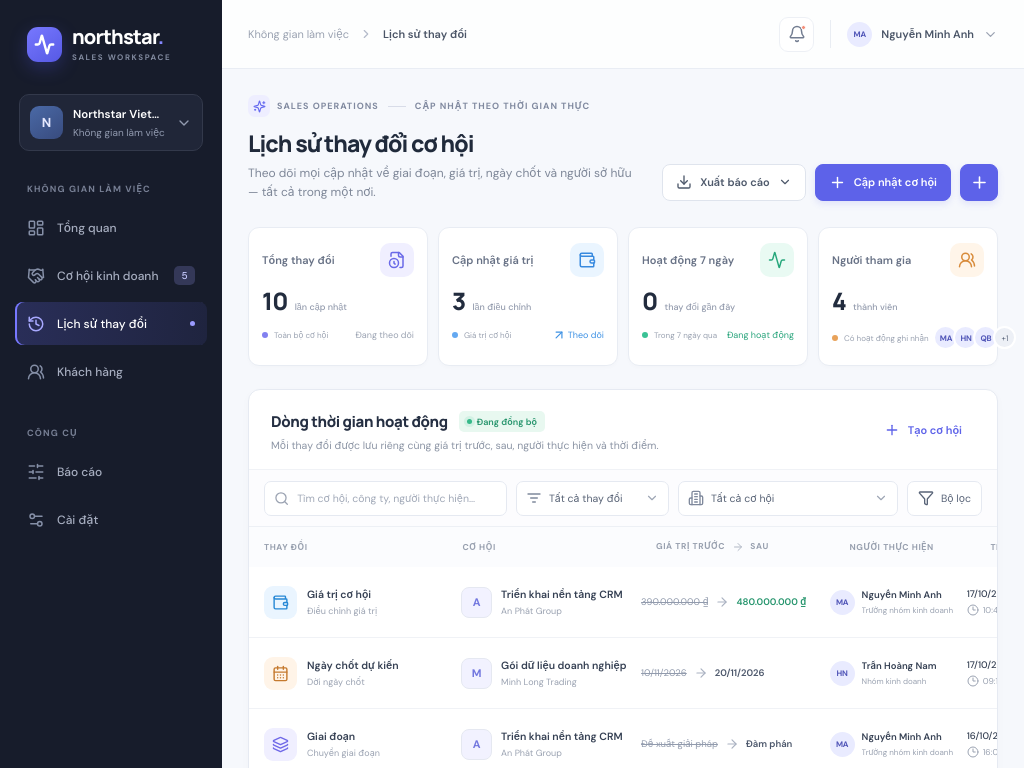
it: Opportunity history UI › records each changed field when saving an opportunity
The image size is (1024, 768).
Click the button "Cập nhật cơ hội" at (883, 182), box left=815, top=164, right=951, bottom=201
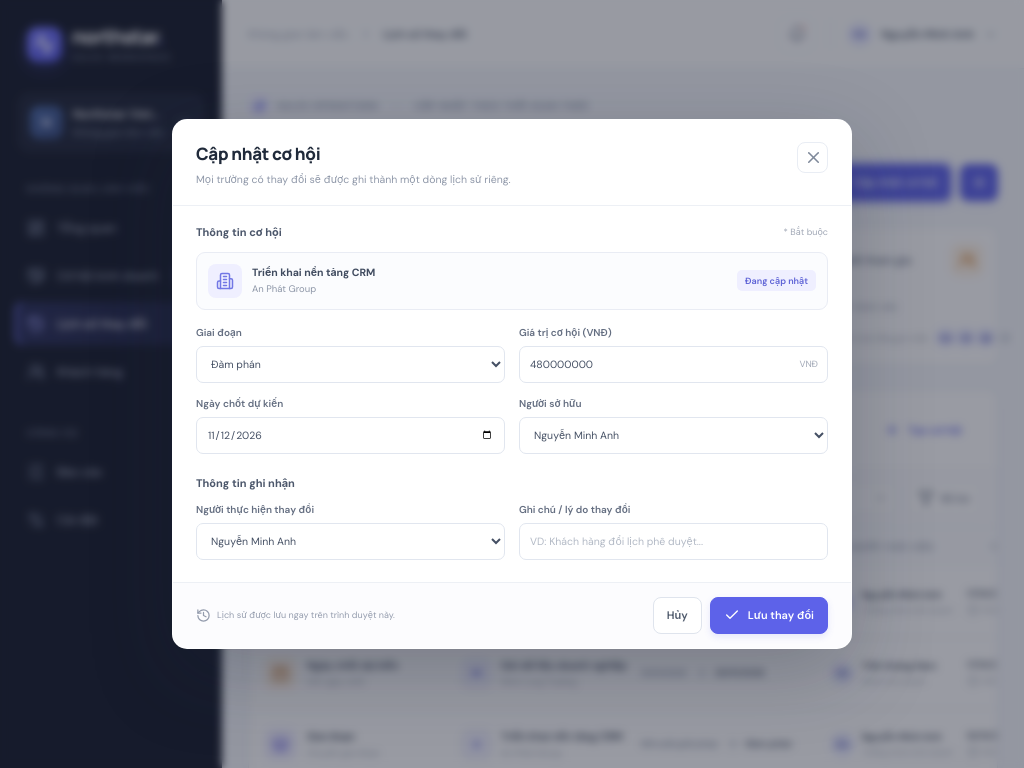
expect the dialog "Cập nhật cơ hội" is shown: met, box left=172, top=119, right=852, bottom=649
Select "Đã thắng" in the dropdown labelled "Giai đoạn" at (350, 364), box left=196, top=346, right=505, bottom=383
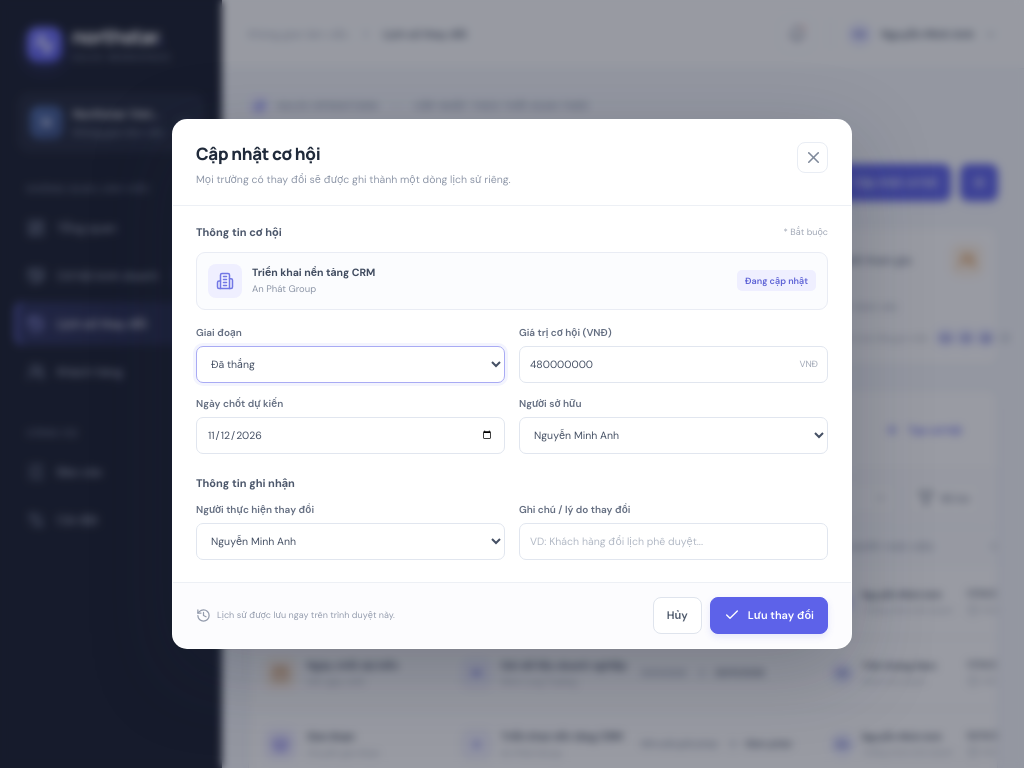
Replace the text in the number field labelled "Giá trị cơ hội (VNĐ)" with "500000000" at (674, 364), box left=519, top=346, right=828, bottom=383
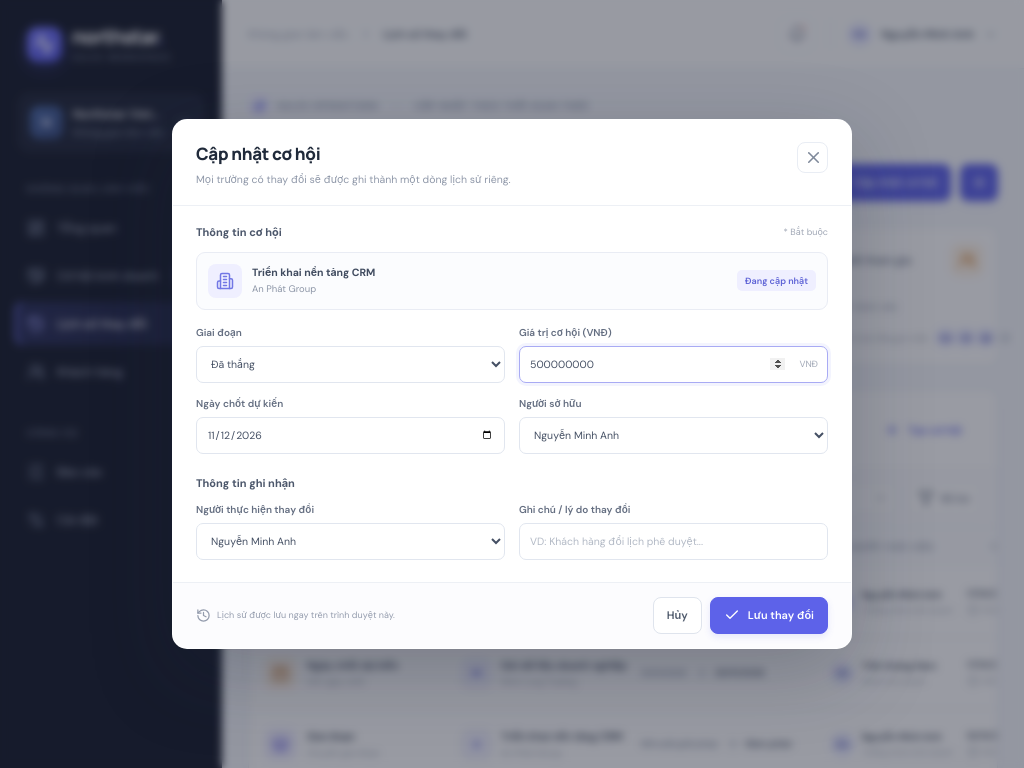
Select "Trần Hoàng Nam" in the dropdown labelled "Người sở hữu" at (674, 435), box left=519, top=417, right=828, bottom=454
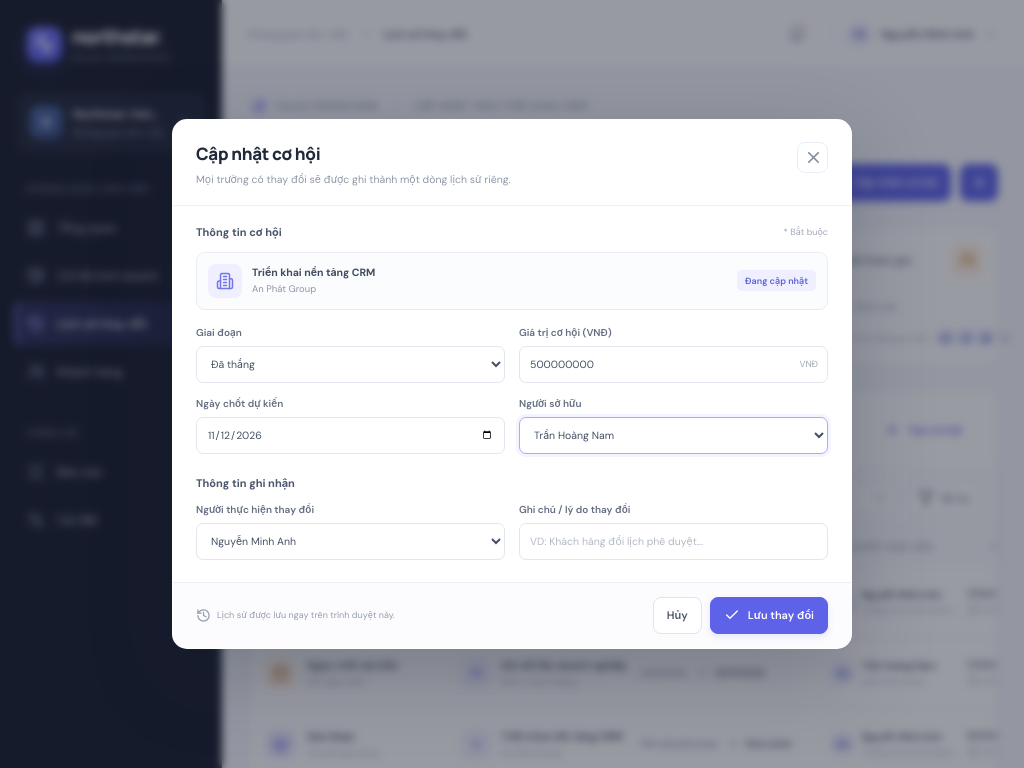
Type "Khách hàng đồng ý phạm vi mới" into the field labelled "Ghi chú / lý do thay đổi" at (674, 541), box left=519, top=523, right=828, bottom=560
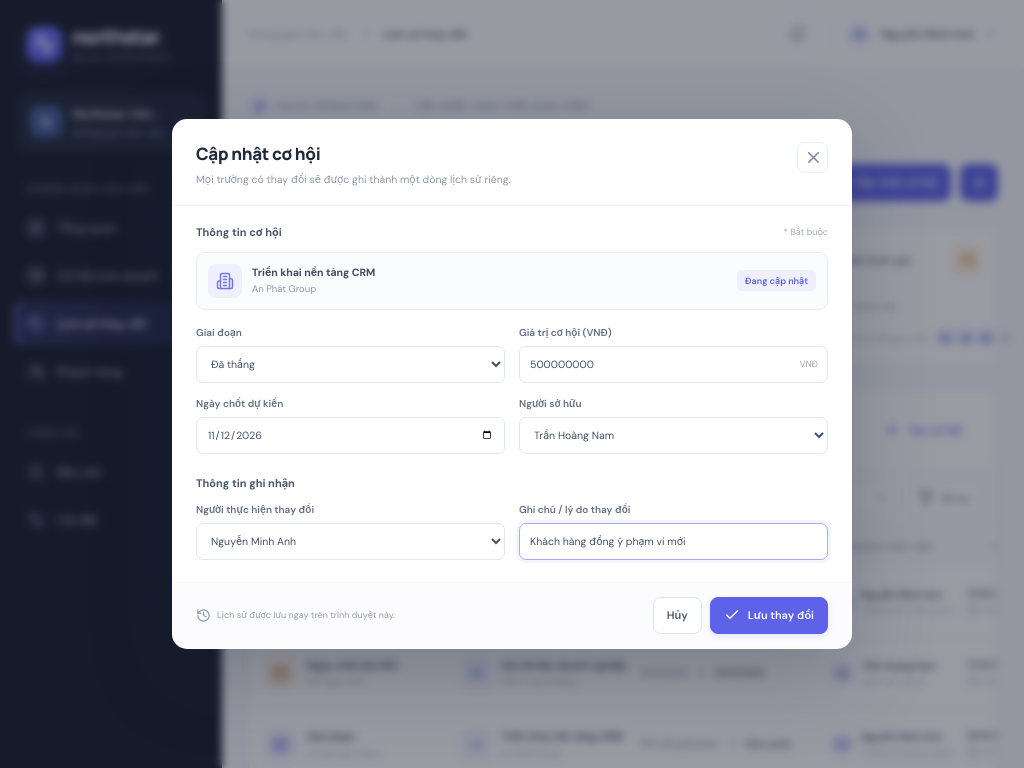
Click the button "Lưu thay đổi" at (769, 615), box left=710, top=597, right=828, bottom=634
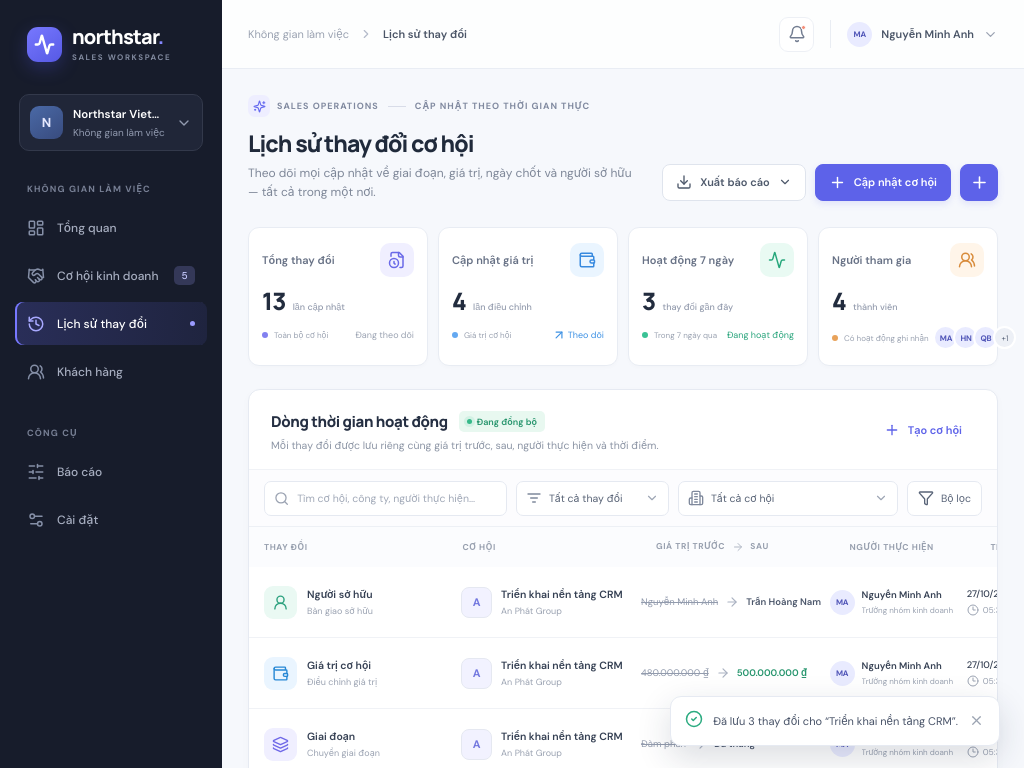
expect the message shows "Đã lưu 3 thay đổi": met, box left=713, top=714, right=958, bottom=728
